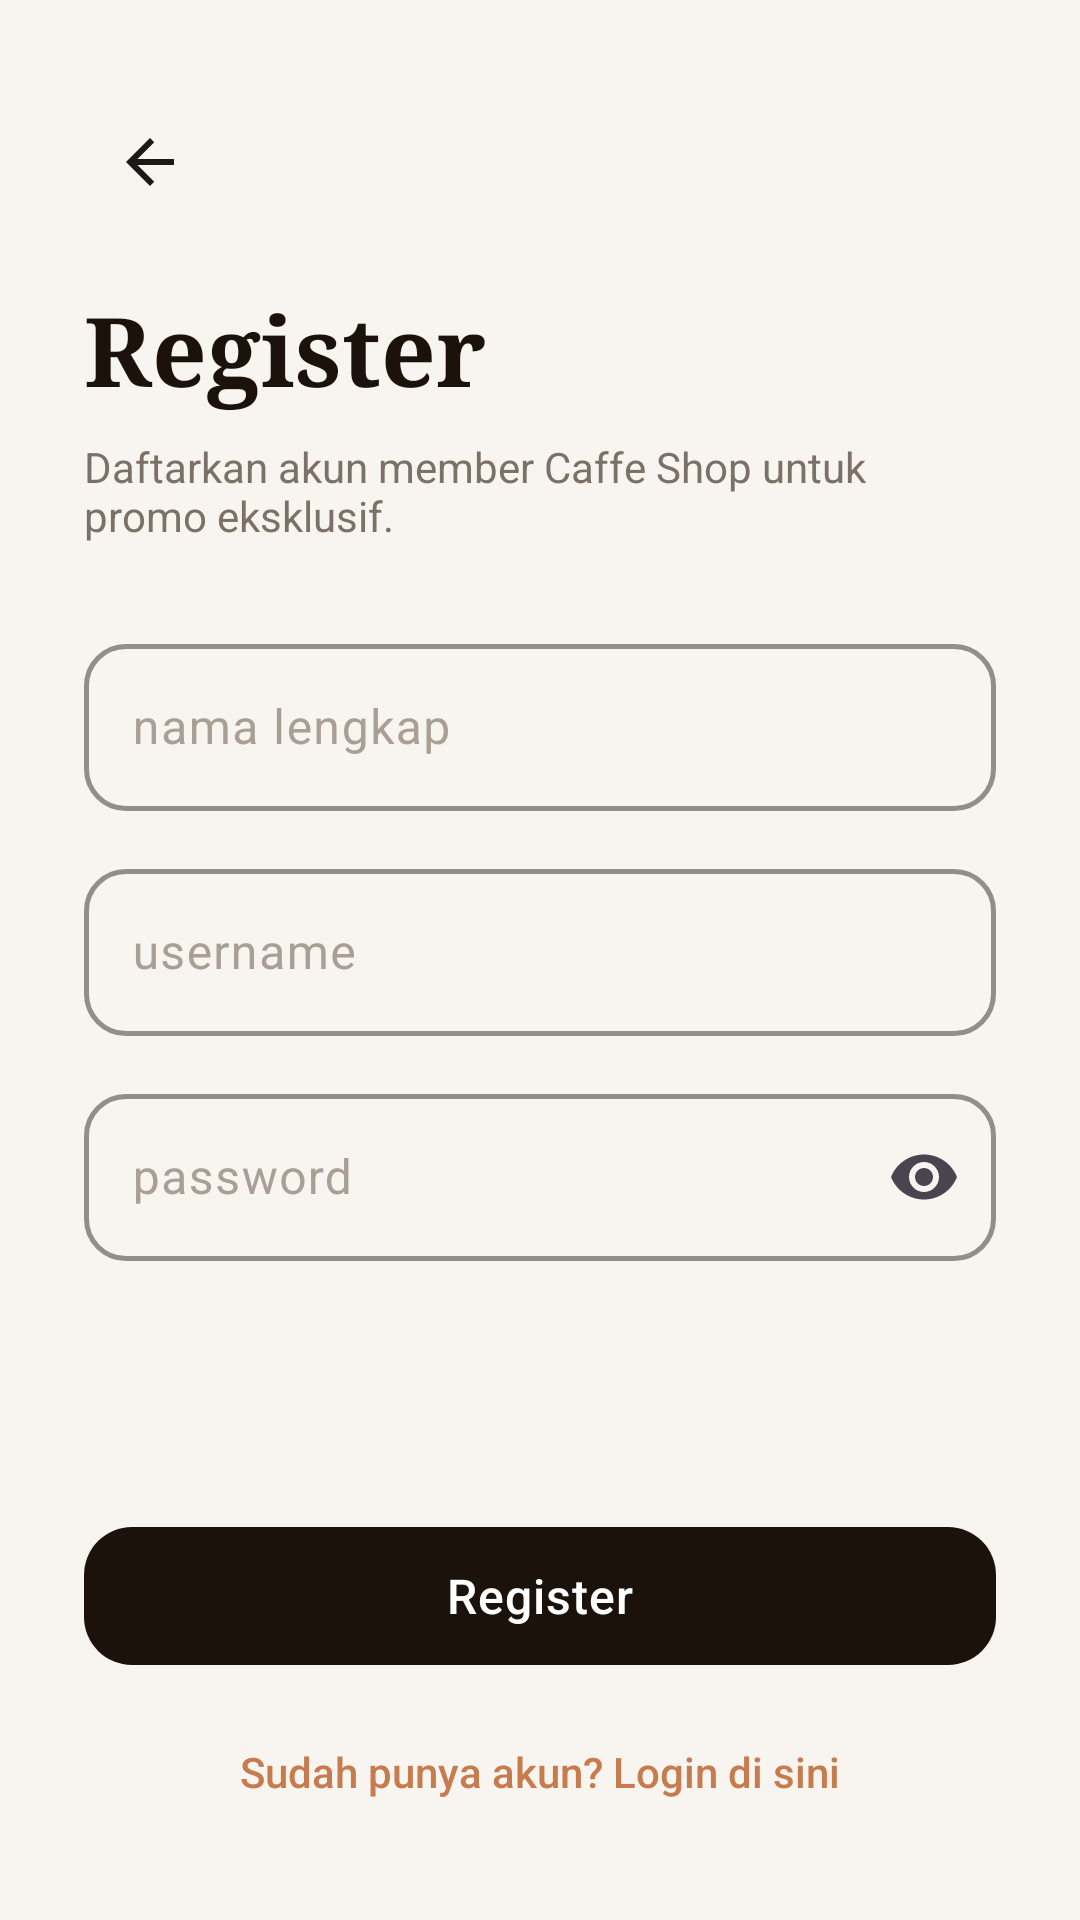

Screen size 1080px×1920px. Icon name, then its box in pixels as (x1, y1, x2, y2):
Kembali: (126, 138, 174, 186)
